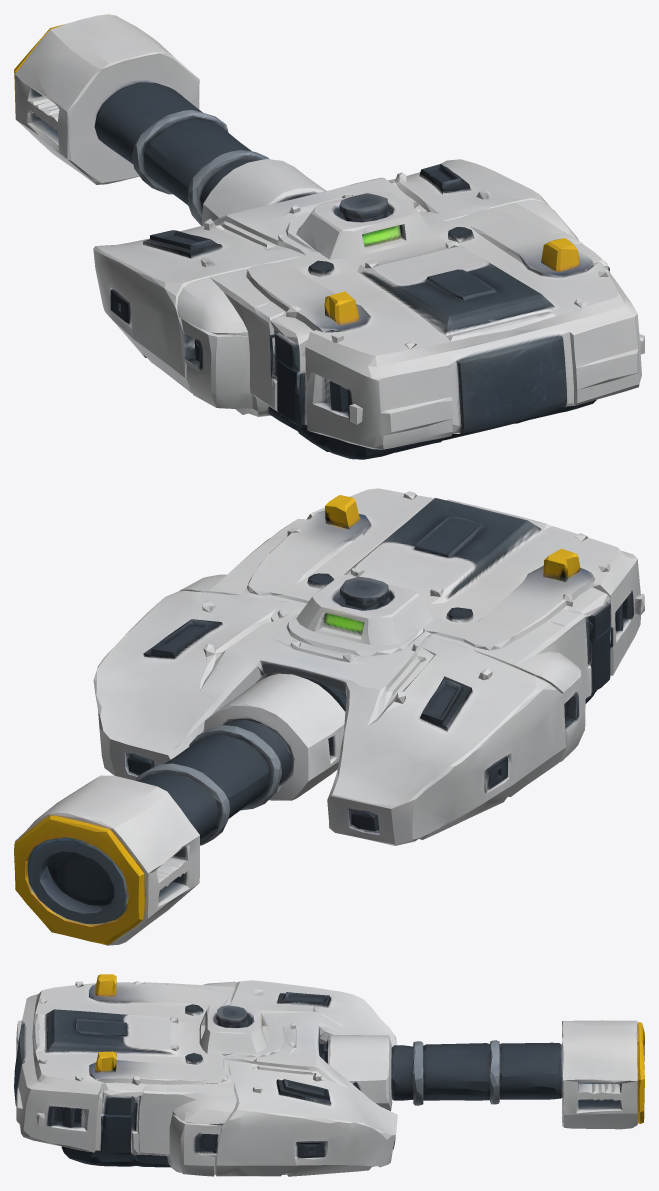
Rendered from cannon.glb.
The picture shows the model from 3 angles, top to bottom: view 1: azimuth 30°, elevation 25°; view 2: azimuth 150°, elevation 25°; view 3: azimuth 270°, elevation 25°; orthographic projection. The views are drawn at different scales.
Parts seen in each view (by area): view 1: Body, MuzzleShroud, Barrel; view 2: Body, MuzzleShroud, Barrel; view 3: Body, Barrel, MuzzleShroud.
Boxes of the visible parts, x1=… form: Body: x1=93, y1=159, x2=644, y2=459; MuzzleShroud: x1=14, y1=14, x2=199, y2=184; Barrel: x1=94, y1=82, x2=326, y2=225; Body: x1=93, y1=488, x2=644, y2=845; MuzzleShroud: x1=14, y1=775, x2=199, y2=945; Barrel: x1=135, y1=673, x2=346, y2=845; Body: x1=14, y1=974, x2=397, y2=1176; Barrel: x1=319, y1=1035, x2=562, y2=1111; MuzzleShroud: x1=562, y1=1020, x2=644, y2=1129.
Bounding box in the file's own units: 1.1 × 0.4577 × 2.18.
3 materials, 3 textured.
